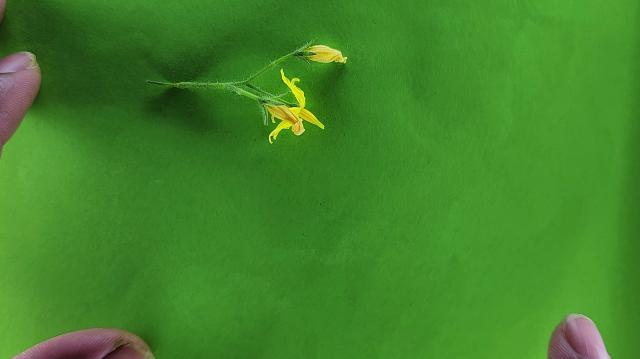Anthesis: (262, 67, 325, 143), (289, 42, 351, 68)
